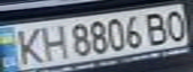0: (106, 15, 127, 52)
6: (124, 12, 148, 50)
8: (66, 20, 90, 57), (87, 18, 109, 55)
B: (142, 9, 175, 45)
H: (36, 21, 69, 61)
K: (6, 25, 51, 66)
O: (160, 7, 190, 43)
